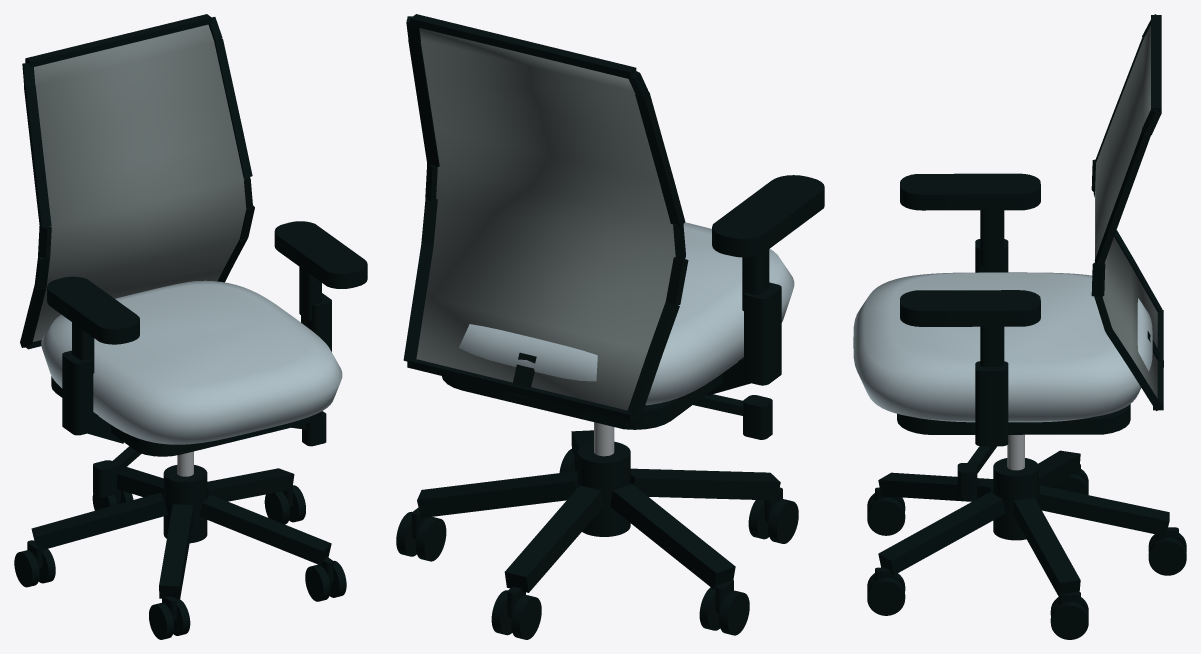
The model's file is usdcraft_astra.glb.
The picture shows the model from 3 angles, left to right: view 1: azimuth 30°, elevation 25°; view 2: azimuth 150°, elevation 25°; view 3: azimuth 270°, elevation 25°; orthographic projection. The views are drawn at different scales.
Parts seen in each view (by area): view 1: /Asset/Links/seat_assembly/Visuals/mesh_back/Geom/mesh, /Asset/Links/seat_assembly/Visuals/cushion/Geom/mesh, /Asset/Links/arm1/Visuals/pad1/Geom/mesh, /Asset/Links/arm_1/Visuals/pad_1/Geom/mesh, /Asset/Links/star_base/Visuals/spoke1/Geom, /Asset/Links/star_base/Visuals/spoke2/Geom, /Asset/Links/seat_assembly/Visuals/arm_socket_1/Geom/mesh, /Asset/Links/star_base/Visuals/spoke0/Geom, /Asset/Links/star_base/Visuals/hub/Geom, /Asset/Links/seat_assembly/Visuals/back_cross8/Geom, /Asset/Links/star_base/Visuals/spoke3/Geom, /Asset/Links/seat_assembly/Visuals/seat_pan/Geom/mesh (+13 smaller); view 2: /Asset/Links/seat_assembly/Visuals/mesh_back/Geom/mesh, /Asset/Links/seat_assembly/Visuals/cushion/Geom/mesh, /Asset/Links/arm_1/Visuals/pad_1/Geom/mesh, /Asset/Links/star_base/Visuals/spoke2/Geom, /Asset/Links/star_base/Visuals/spoke3/Geom, /Asset/Links/star_base/Visuals/spoke0/Geom, /Asset/Links/star_base/Visuals/spoke4/Geom, /Asset/Links/seat_assembly/Visuals/arm_socket_1/Geom/mesh, /Asset/Links/seat_assembly/Visuals/seat_pan/Geom/mesh, /Asset/Links/star_base/Visuals/hub/Geom, /Asset/Links/seat_assembly/Visuals/back_cross8/Geom, /Asset/Links/seat_assembly/Visuals/back_cross0/Geom (+21 smaller); view 3: /Asset/Links/seat_assembly/Visuals/cushion/Geom/mesh, /Asset/Links/seat_assembly/Visuals/mesh_back/Geom/mesh, /Asset/Links/arm_1/Visuals/pad_1/Geom/mesh, /Asset/Links/arm1/Visuals/pad1/Geom/mesh, /Asset/Links/star_base/Visuals/spoke1/Geom, /Asset/Links/star_base/Visuals/spoke4/Geom, /Asset/Links/seat_assembly/Visuals/seat_pan/Geom/mesh, /Asset/Links/star_base/Visuals/spoke3/Geom, /Asset/Links/seat_assembly/Visuals/arm_socket1/Geom/mesh, /Asset/Links/star_base/Visuals/hub/Geom, /Asset/Links/star_base/Visuals/spoke0/Geom, /Asset/Links/arm_1/Visuals/stem_1/Geom/mesh (+14 smaller).
Part boxes in pixels (x1,y1,x2,y2): /Asset/Links/seat_assembly/Visuals/mesh_back/Geom/mesh: (33,24,246,341); /Asset/Links/seat_assembly/Visuals/cushion/Geom/mesh: (41,280,342,444); /Asset/Links/arm1/Visuals/pad1/Geom/mesh: (274,221,367,288); /Asset/Links/arm_1/Visuals/pad_1/Geom/mesh: (47,276,139,344); /Asset/Links/star_base/Visuals/spoke1/Geom: (199,495,331,564); /Asset/Links/star_base/Visuals/spoke2/Geom: (31,492,167,550); /Asset/Links/seat_assembly/Visuals/arm_socket_1/Geom/mesh: (62,350,93,435); /Asset/Links/star_base/Visuals/spoke0/Geom: (159,504,193,599); /Asset/Links/star_base/Visuals/hub/Geom: (163,465,207,543); /Asset/Links/seat_assembly/Visuals/back_cross8/Geom: (25,14,211,66); /Asset/Links/star_base/Visuals/spoke3/Geom: (207,468,294,501); /Asset/Links/seat_assembly/Visuals/seat_pan/Geom/mesh: (51,376,321,456); /Asset/Links/seat_assembly/Visuals/mesh_back/Geom/mesh: (416,28,675,410); /Asset/Links/seat_assembly/Visuals/cushion/Geom/mesh: (459,222,794,405); /Asset/Links/arm_1/Visuals/pad_1/Geom/mesh: (712,175,824,257); /Asset/Links/star_base/Visuals/spoke2/Geom: (610,484,735,589); /Asset/Links/star_base/Visuals/spoke3/Geom: (417,471,577,517); /Asset/Links/star_base/Visuals/spoke0/Geom: (630,468,780,500); /Asset/Links/star_base/Visuals/spoke4/Geom: (504,485,603,592); /Asset/Links/seat_assembly/Visuals/arm_socket_1/Geom/mesh: (744,282,781,385); /Asset/Links/seat_assembly/Visuals/seat_pan/Geom/mesh: (442,373,722,429); /Asset/Links/star_base/Visuals/hub/Geom: (577,441,630,536); /Asset/Links/seat_assembly/Visuals/back_cross8/Geom: (410,14,636,79); /Asset/Links/seat_assembly/Visuals/back_cross0/Geom: (407,359,636,421); /Asset/Links/seat_assembly/Visuals/cushion/Geom/mesh: (853,272,1152,422); /Asset/Links/seat_assembly/Visuals/mesh_back/Geom/mesh: (1095,25,1157,398); /Asset/Links/arm_1/Visuals/pad_1/Geom/mesh: (900,173,1040,210); /Asset/Links/arm1/Visuals/pad1/Geom/mesh: (900,290,1040,326); /Asset/Links/star_base/Visuals/spoke1/Geom: (878,492,1005,574); /Asset/Links/star_base/Visuals/spoke4/Geom: (1037,485,1169,536); /Asset/Links/seat_assembly/Visuals/seat_pan/Geom/mesh: (897,404,1130,434); /Asset/Links/star_base/Visuals/spoke3/Geom: (1013,497,1080,596); /Asset/Links/seat_assembly/Visuals/arm_socket1/Geom/mesh: (975,361,1008,446); /Asset/Links/star_base/Visuals/hub/Geom: (993,458,1038,540); /Asset/Links/star_base/Visuals/spoke0/Geom: (878,472,993,501); /Asset/Links/arm_1/Visuals/stem_1/Geom/mesh: (980,210,1004,266).
Size of the model in its own units: 0.681 by 1.15 by 0.6845.
